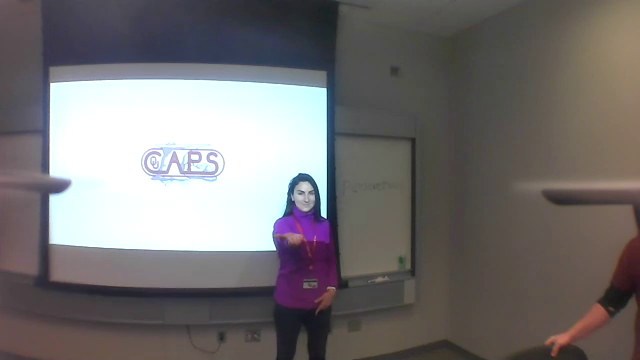land: (272, 230, 309, 251)
